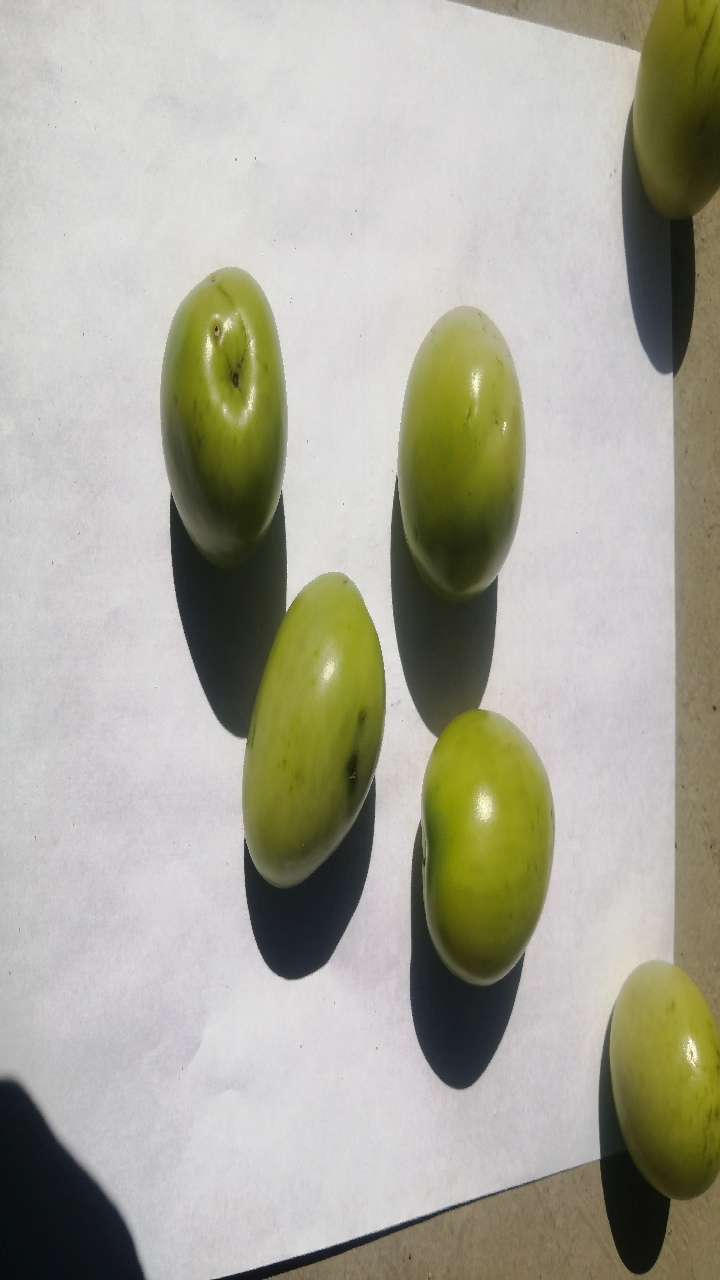tomateVerde: (221, 557, 398, 931), (138, 228, 311, 572), (384, 286, 560, 617), (403, 677, 555, 1011)
